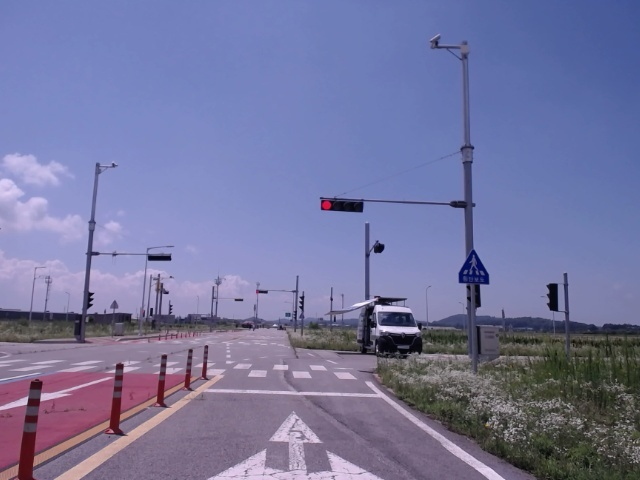red_4: (321, 200, 363, 212)
